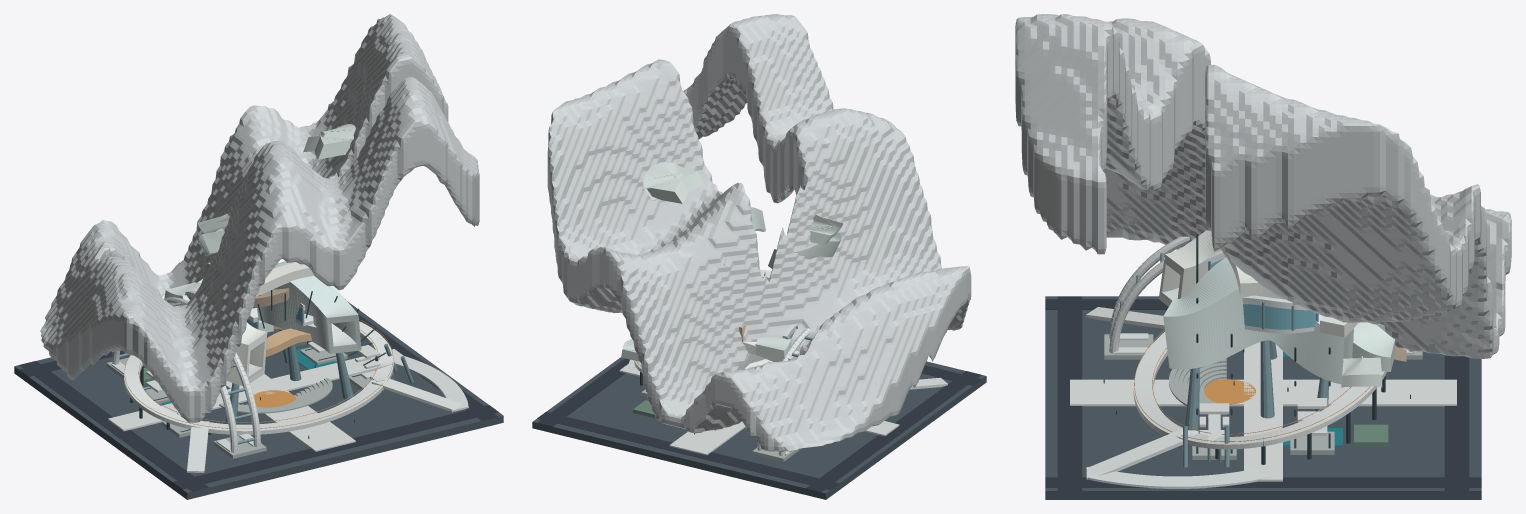
Rendered from a17_b_monolithic_rift_fold.glb.
3 views of the same model, side by side, from view 1: azimuth 30°, elevation 25°; view 2: azimuth 150°, elevation 25°; view 3: azimuth 270°, elevation 25° (orthographic). The views are drawn at different scales.
Visible parts, largest first — view 1: A17_MONOLITHIC_TECTONIC_CIVIC_FOLD, District base, Continuous elliptical public promenade, A10_EAST_INHABITED_TIDAL_SHELL, E-W road, N-S road, Public ground, continuous E-W axis, Public ground, continuous N-S axis, A10_WEST_INHABITED_FAULT_SHELL, A12_EAST_CROWN_OCULUS_EXPOSED_CIVIC_DECK, A7_APPROACH_CURVED_DECK, Street to common ramp.001 (+5 smaller); view 2: A17_MONOLITHIC_TECTONIC_CIVIC_FOLD, District base, E-W road.001, N-S road, A12_EAST_CROWN_OCULUS_EXPOSED_CIVIC_DECK, Public ground, continuous N-S axis, N-S road.001, A12_WEST_GRAND_HOLLOW_EXPOSED_CIVIC_DECK, A11_WEST_OCCUPIED_STRATUM_2, A12_WEST_SKY_OCULUS_EXPOSED_CIVIC_DECK, E-W road; view 3: A17_MONOLITHIC_TECTONIC_CIVIC_FOLD, District base, A10_EAST_INHABITED_TIDAL_SHELL, Public ground, continuous N-S axis, Continuous elliptical public promenade, E-W road, Public ground, continuous E-W axis, E-W road.001, N-S road.001, A7_APPROACH_CURVED_DECK, A10_WEST_INHABITED_FAULT_SHELL, A11_EAST_OCCUPIED_STRATUM_0 (+12 smaller).
Boxes of the visible parts, x1,y1,x2,y2 form: A17_MONOLITHIC_TECTONIC_CIVIC_FOLD: [40, 14, 479, 422]; District base: [14, 301, 503, 499]; Continuous elliptical public promenade: [124, 321, 393, 434]; A10_EAST_INHABITED_TIDAL_SHELL: [257, 261, 361, 353]; E-W road: [173, 405, 498, 489]; N-S road: [19, 361, 208, 491]; Public ground, continuous E-W axis: [108, 349, 402, 431]; Public ground, continuous N-S axis: [225, 374, 355, 451]; A10_WEST_INHABITED_FAULT_SHELL: [226, 322, 267, 385]; A12_EAST_CROWN_OCULUS_EXPOSED_CIVIC_DECK: [303, 124, 355, 159]; A7_APPROACH_CURVED_DECK: [393, 353, 468, 412]; Street to common ramp.001: [371, 375, 461, 411]; A17_MONOLITHIC_TECTONIC_CIVIC_FOLD: [547, 14, 971, 451]; District base: [532, 357, 986, 499]; E-W road.001: [537, 412, 839, 489]; N-S road: [806, 371, 981, 492]; A12_EAST_CROWN_OCULUS_EXPOSED_CIVIC_DECK: [643, 162, 703, 203]; Public ground, continuous N-S axis: [669, 421, 745, 455]; N-S road.001: [537, 358, 629, 426]; A12_WEST_GRAND_HOLLOW_EXPOSED_CIVIC_DECK: [755, 336, 795, 360]; A11_WEST_OCCUPIED_STRATUM_2: [768, 233, 841, 268]; A12_WEST_SKY_OCULUS_EXPOSED_CIVIC_DECK: [810, 214, 843, 244]; E-W road: [922, 365, 981, 385]; A17_MONOLITHIC_TECTONIC_CIVIC_FOLD: [1015, 14, 1511, 358]; District base: [1045, 296, 1481, 499]; A10_EAST_INHABITED_TIDAL_SHELL: [1163, 257, 1353, 384]; Public ground, continuous N-S axis: [1070, 379, 1456, 406]; Continuous elliptical public promenade: [1133, 332, 1386, 449]; E-W road: [1057, 296, 1082, 490]; Public ground, continuous E-W axis: [1244, 342, 1282, 481]; E-W road.001: [1444, 355, 1469, 490]; N-S road.001: [1045, 477, 1481, 487]; A7_APPROACH_CURVED_DECK: [1086, 467, 1270, 488]; A10_WEST_INHABITED_FAULT_SHELL: [1158, 230, 1221, 306]; A11_EAST_OCCUPIED_STRATUM_0: [1352, 322, 1395, 371].
Size of the model in its own units: 212 by 195 by 202.
